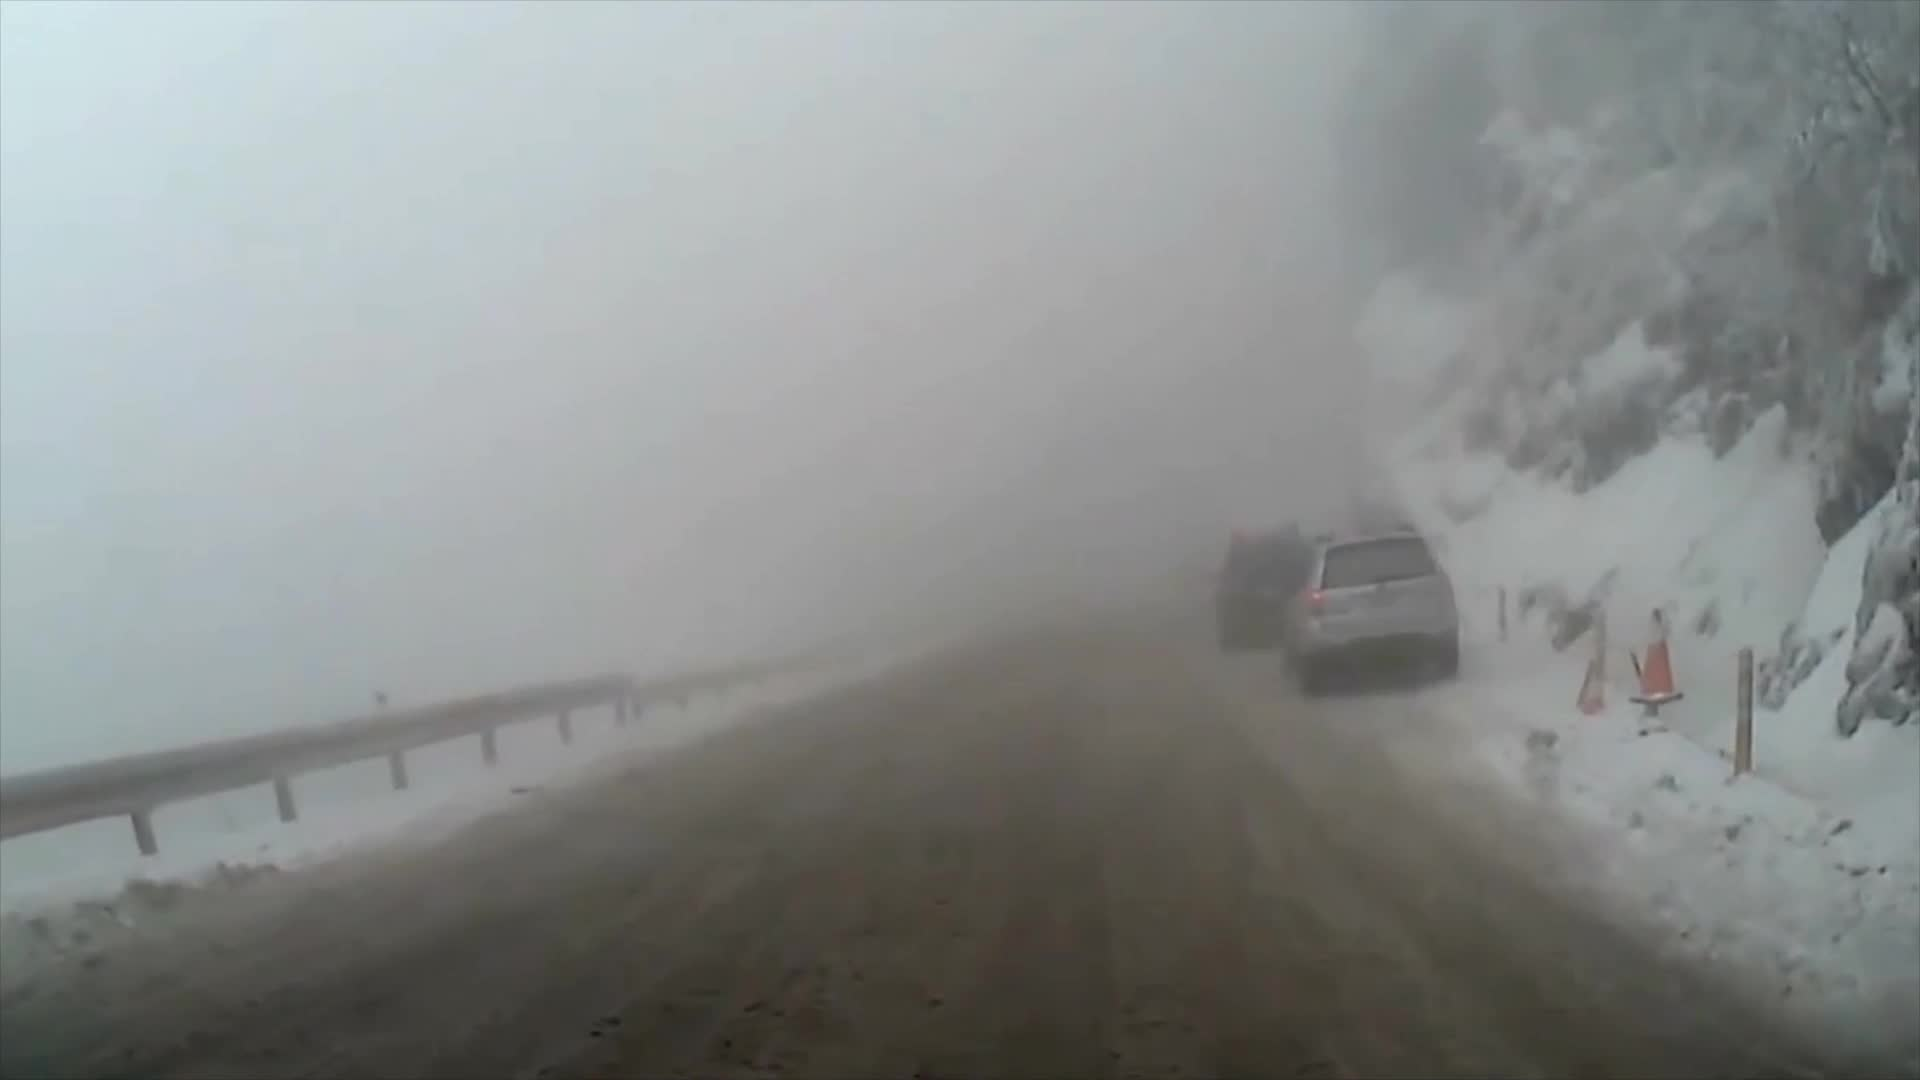vehicle: (1275, 524, 1455, 702), (1207, 533, 1332, 673)
